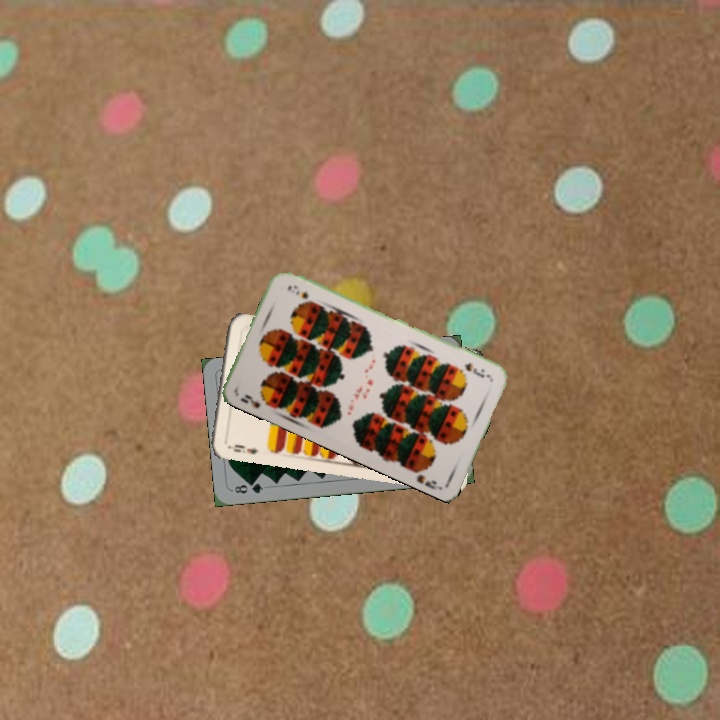E9: (230, 440, 260, 457)
G8: (230, 479, 266, 496)
S9: (236, 390, 273, 411), (461, 359, 493, 381)
